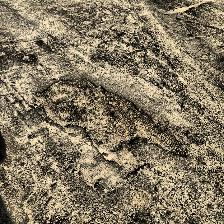pothole: (30, 76, 190, 176)
